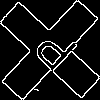P: (25, 25, 81, 81)
